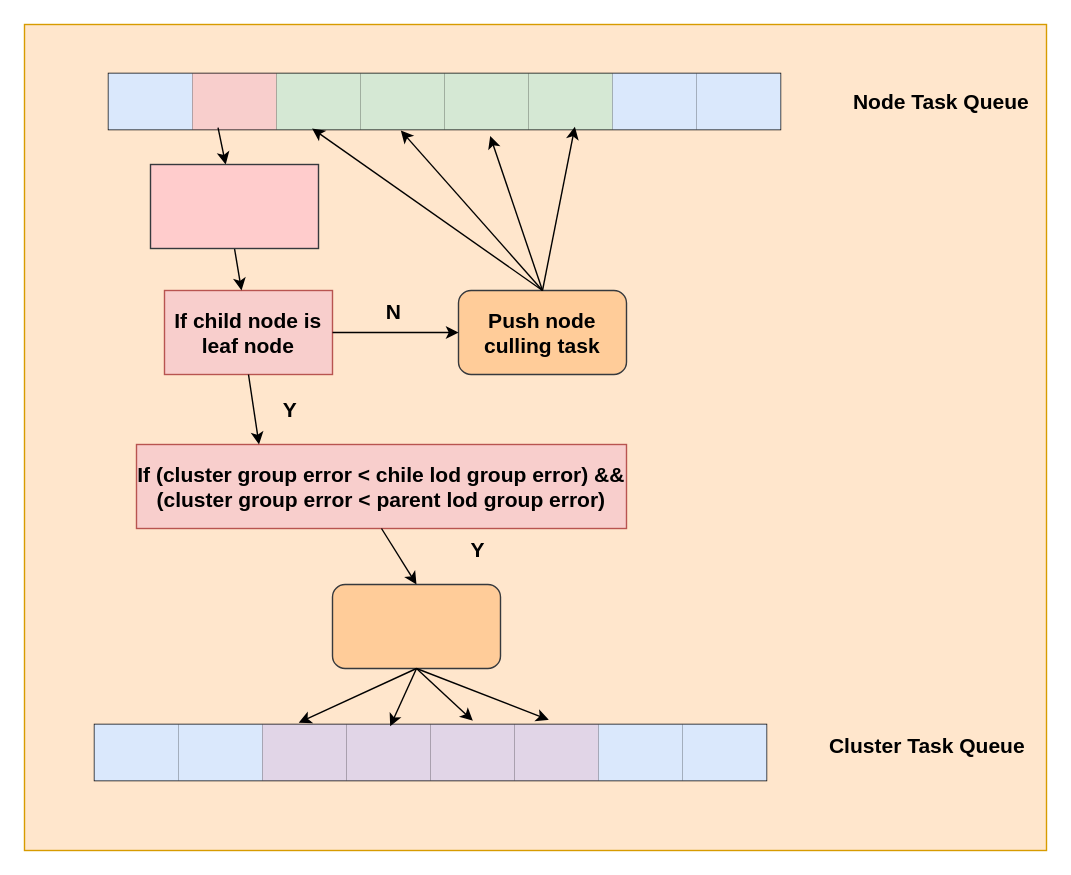
Some shapes in this 1071 by 875 pixel diagram are drawn without their labels. Each missing label, with the centre of its shape:
"Culling" belongs at (233,205).
"Push cluster culling task" belongs at (415,625).
